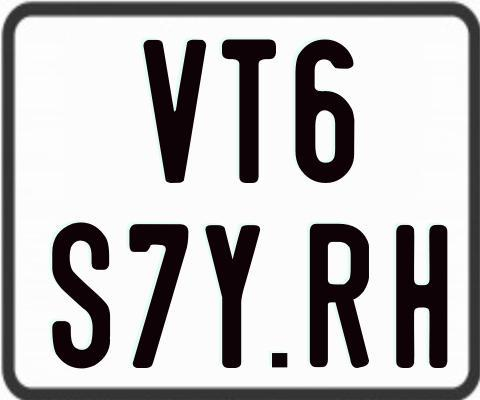6: (292, 39, 357, 183)
7: (129, 224, 190, 374)
H: (395, 225, 447, 368)
R: (310, 223, 369, 368)
S: (49, 221, 108, 372)
T: (219, 39, 279, 186)
V: (144, 37, 206, 184)
Y: (205, 225, 266, 371)
